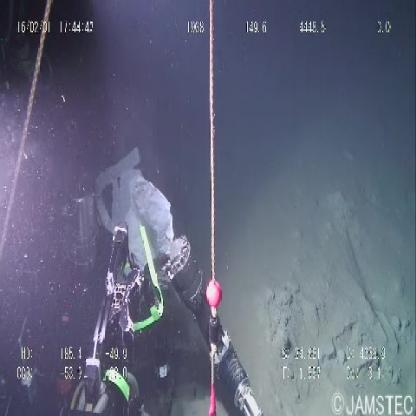Rov: (80, 220, 262, 416)
Rác: (91, 154, 177, 273)
